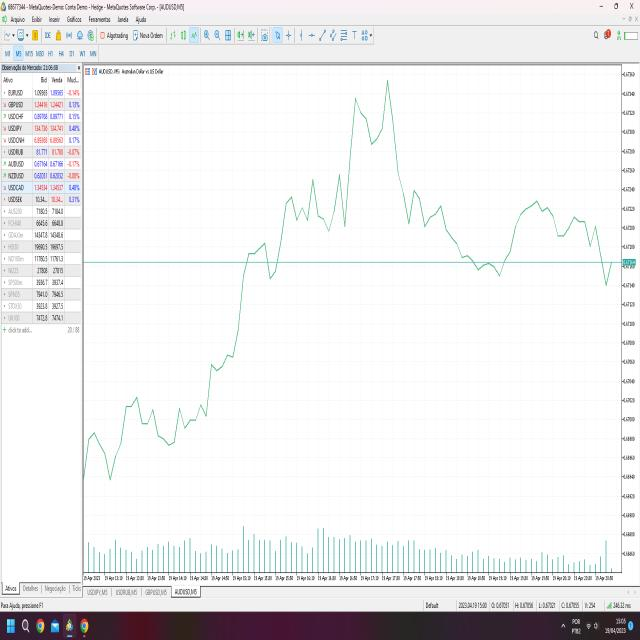topo_duplo: (347, 70, 410, 237)
